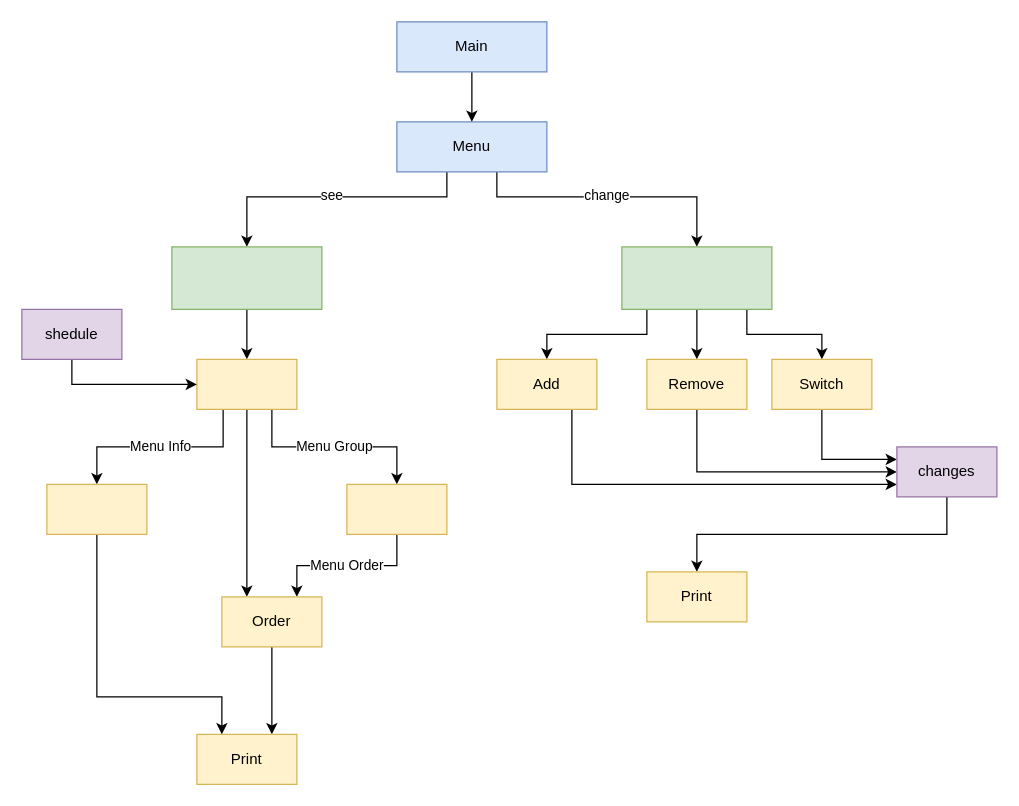
Some shapes in this 1019 by 806 pixel diagram are drawn without their labels. The centre of each missing label's shape, as x and y in pixels:
"Filter" belongs at point (396, 508).
"Read" belongs at point (246, 383).
"Requests Class" belongs at point (696, 277).
"Select" belongs at point (96, 508).
"TypeClass Student/Class/Uc" belongs at point (246, 277).
